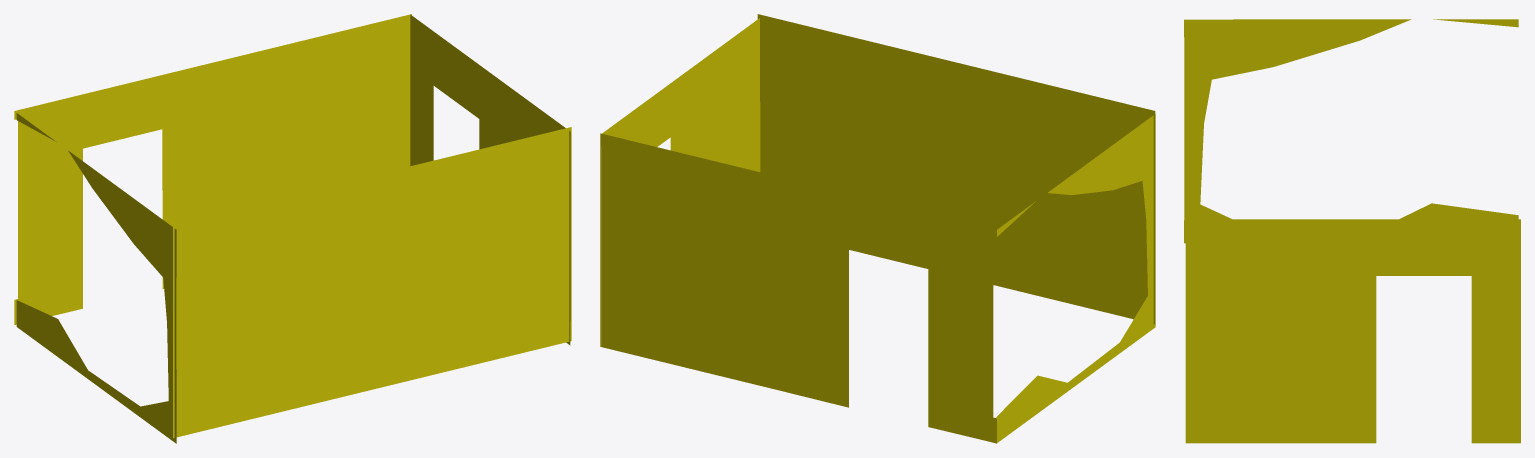
The model's file is BH03B_WP_03_Break.fbx.
3 views of the same model, side by side, from view 1: azimuth 30°, elevation 25°; view 2: azimuth 150°, elevation 25°; view 3: azimuth 270°, elevation 25° (orthographic). The views are drawn at different scales.
Visible parts, largest first — view 1: BH03B_WP_03_Break; view 2: BH03B_WP_03_Break; view 3: BH03B_WP_03_Break.
Boxes of the visible parts, x1=… form: BH03B_WP_03_Break: x1=14, y1=14, x2=571, y2=443; BH03B_WP_03_Break: x1=600, y1=14, x2=1155, y2=443; BH03B_WP_03_Break: x1=1184, y1=19, x2=1520, y2=443.
Size of the model in its own units: 585 by 306 by 409.
